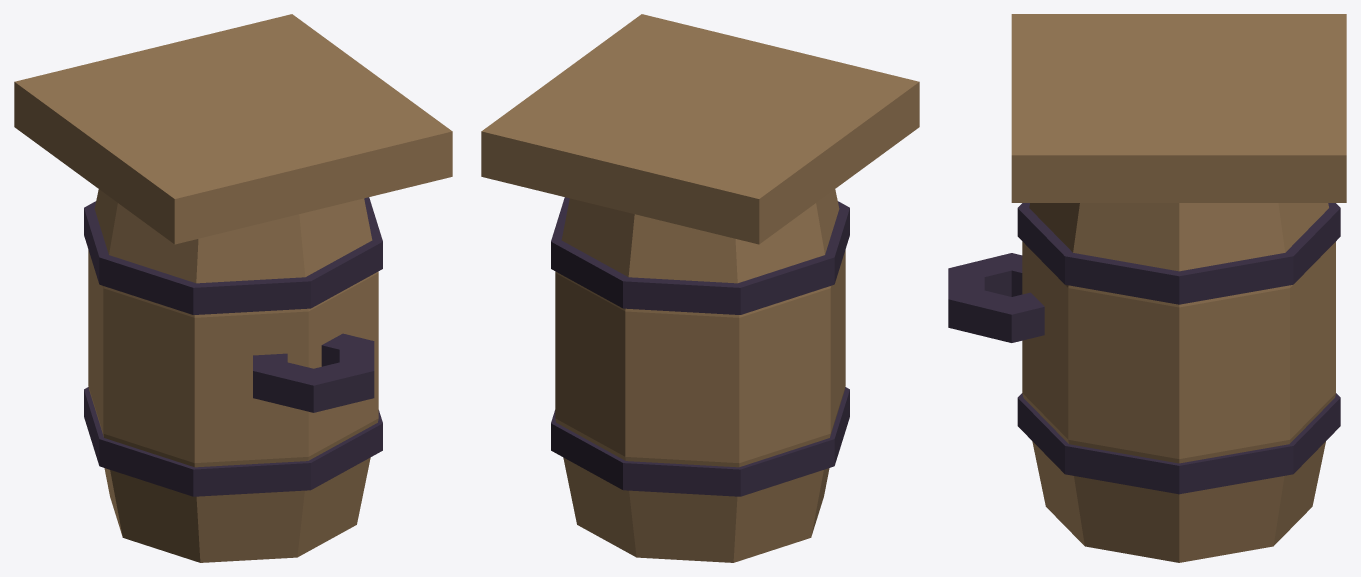
The model's file is wildwest-g0.glb.
3 views of the same model, side by side, from view 1: azimuth 30°, elevation 25°; view 2: azimuth 150°, elevation 25°; view 3: azimuth 270°, elevation 25° (orthographic). The views are drawn at different scales.
Visible parts, largest first — view 1: wildwest-g0; view 2: wildwest-g0; view 3: wildwest-g0.
Boxes of the visible parts, bbox=[...] form: wildwest-g0: bbox=[14, 14, 452, 562]; wildwest-g0: bbox=[481, 14, 919, 562]; wildwest-g0: bbox=[948, 14, 1346, 562].
Size of the model in its own units: 0.32 by 0.445 by 0.3806.
